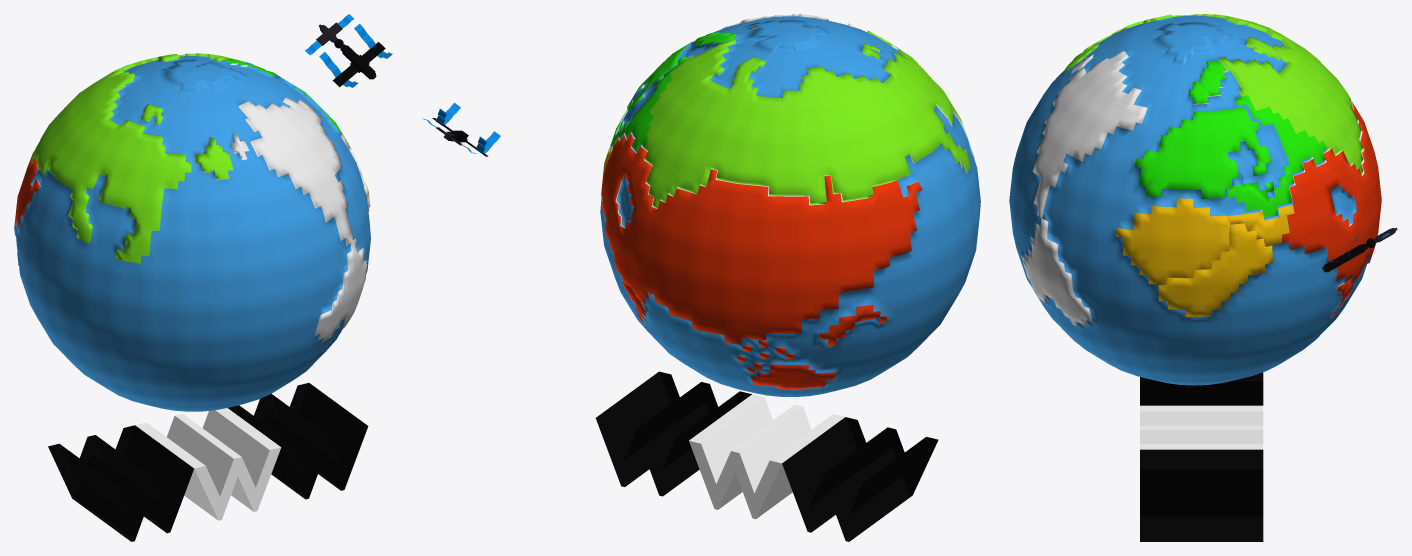
3 views of the same model, side by side, from view 1: azimuth 30°, elevation 25°; view 2: azimuth 150°, elevation 25°; view 3: azimuth 270°, elevation 25° (orthographic). The views are drawn at different scales.
Visible parts, largest first — view 1: Sphere, Text, Cube.001; view 2: Sphere, Text, Cube.001; view 3: Sphere, Text, Cube.001.
Boxes of the visible parts, x1=… form: Sphere: x1=14, y1=53, x2=370, y2=411; Text: x1=48, y1=383, x2=368, y2=541; Cube.001: x1=305, y1=14, x2=393, y2=87; Sphere: x1=600, y1=14, x2=980, y2=396; Text: x1=595, y1=371, x2=938, y2=541; Cube.001: x1=422, y1=102, x2=500, y2=156; Sphere: x1=1009, y1=14, x2=1381, y2=385; Text: x1=1140, y1=372, x2=1263, y2=541; Cube.001: x1=1309, y1=227, x2=1397, y2=272.
Size of the model in its own units: 8.48 by 8.36 by 6.58.
